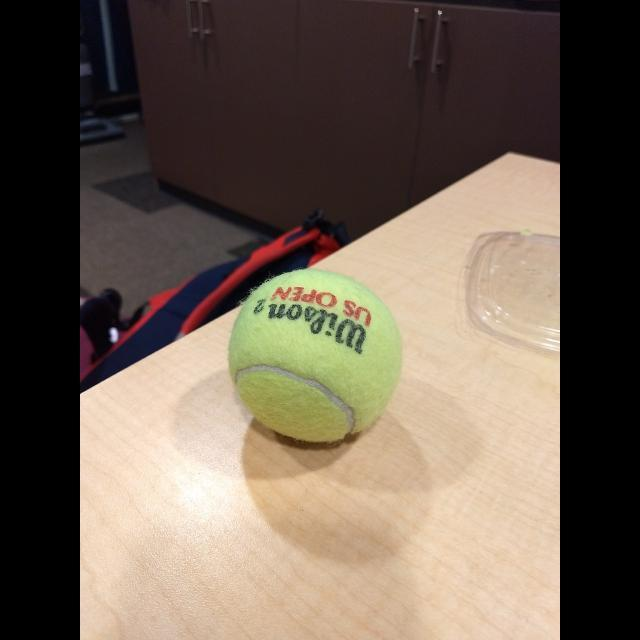tennis-ball: (230, 270, 400, 446)
